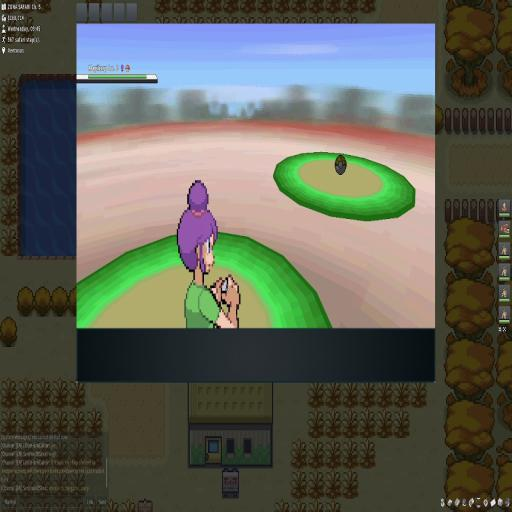SUCESSFULCAPTURE: (334, 154, 348, 176)
